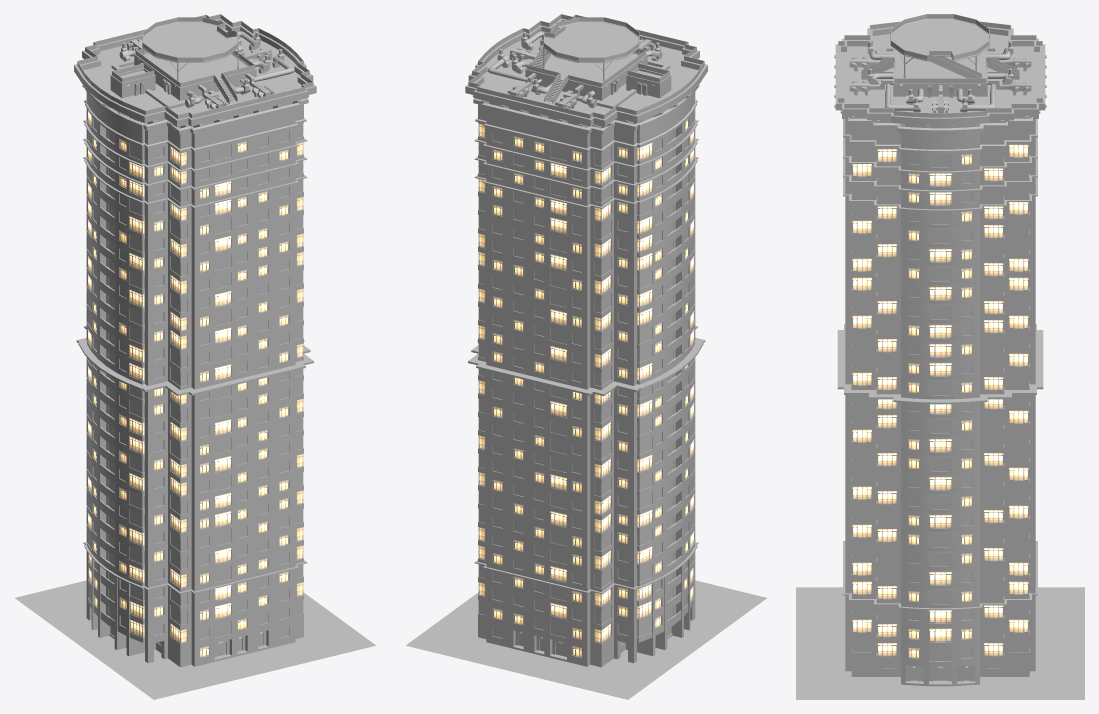
3 views of the same model, side by side, from view 1: azimuth 30°, elevation 25°; view 2: azimuth 150°, elevation 25°; view 3: azimuth 270°, elevation 25° (orthographic). The views are drawn at different scales.
Visible parts, largest first — view 1: Moskow_house, Plane001; view 2: Moskow_house, Plane001; view 3: Moskow_house, Plane001.
Part boxes in pixels (box(x1,y1,x2,y2)): Moskow_house: box(74, 14, 316, 667); Plane001: box(15, 580, 375, 699); Moskow_house: box(465, 14, 707, 667); Plane001: box(406, 580, 766, 699); Moskow_house: box(834, 14, 1046, 686); Plane001: box(796, 587, 1084, 699).
Size of the model in its own units: 41.88 by 106 by 45.41.
